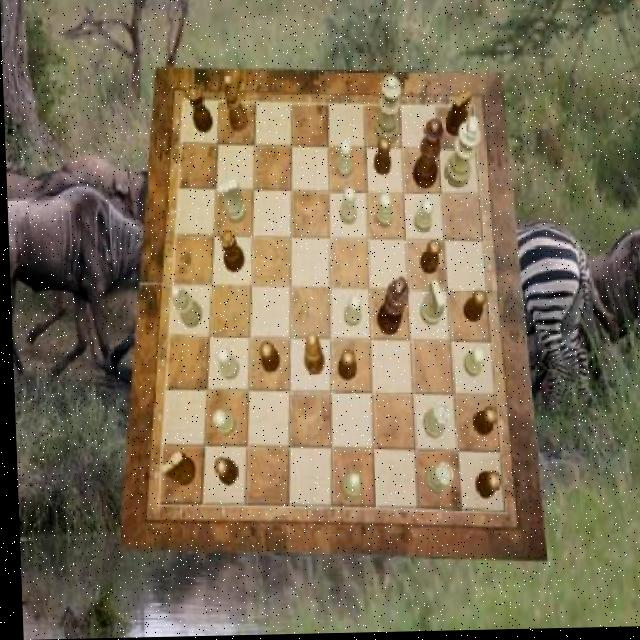bishop: (224, 74, 248, 132), (300, 335, 323, 377)
black-bishop: (373, 279, 408, 338)
black-king: (443, 92, 472, 138), (158, 451, 195, 487)
black-knight: (461, 290, 485, 325), (416, 241, 440, 276), (471, 473, 498, 501), (469, 409, 494, 438), (258, 343, 279, 376), (372, 138, 390, 176), (210, 459, 234, 487), (335, 351, 354, 382)
black-pawn: (410, 120, 445, 191)
black-queen: (186, 86, 212, 135), (217, 230, 243, 273)
black-rook: (168, 287, 201, 329), (337, 471, 360, 504)
white-bishop: (442, 118, 482, 191)
white-king: (216, 179, 245, 225), (416, 283, 444, 327)
white-knight: (215, 347, 238, 381), (460, 349, 483, 380), (412, 202, 433, 235), (338, 189, 356, 227), (335, 142, 353, 180), (209, 410, 233, 437), (373, 195, 391, 230), (341, 295, 359, 328)
white-pawn: (373, 79, 403, 147)
white-queen: (420, 405, 448, 441), (423, 464, 451, 496)
